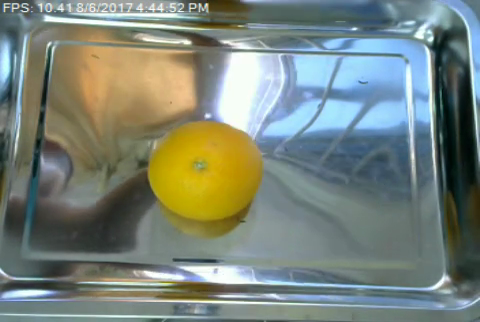Orange: (146, 119, 263, 221)
